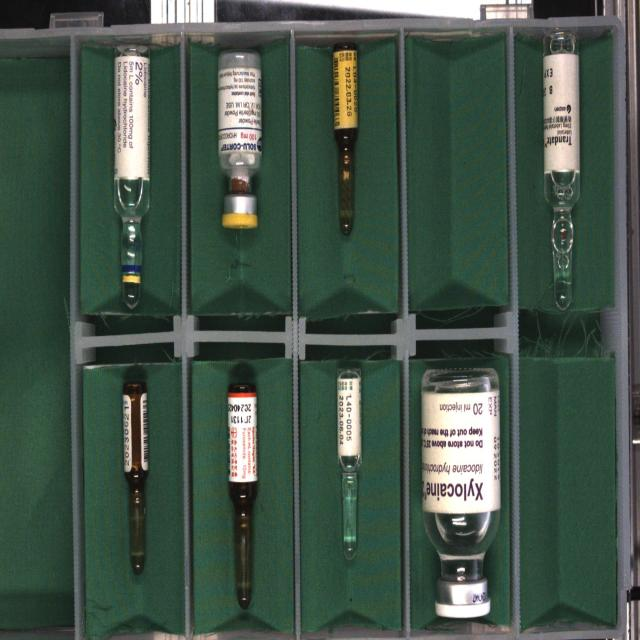Vials: (421, 369, 501, 618), (219, 51, 262, 229)
